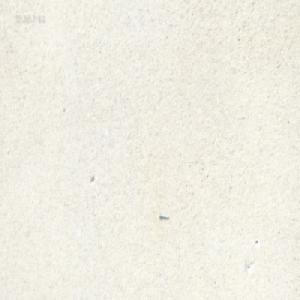Nail: (158, 211, 169, 219)
